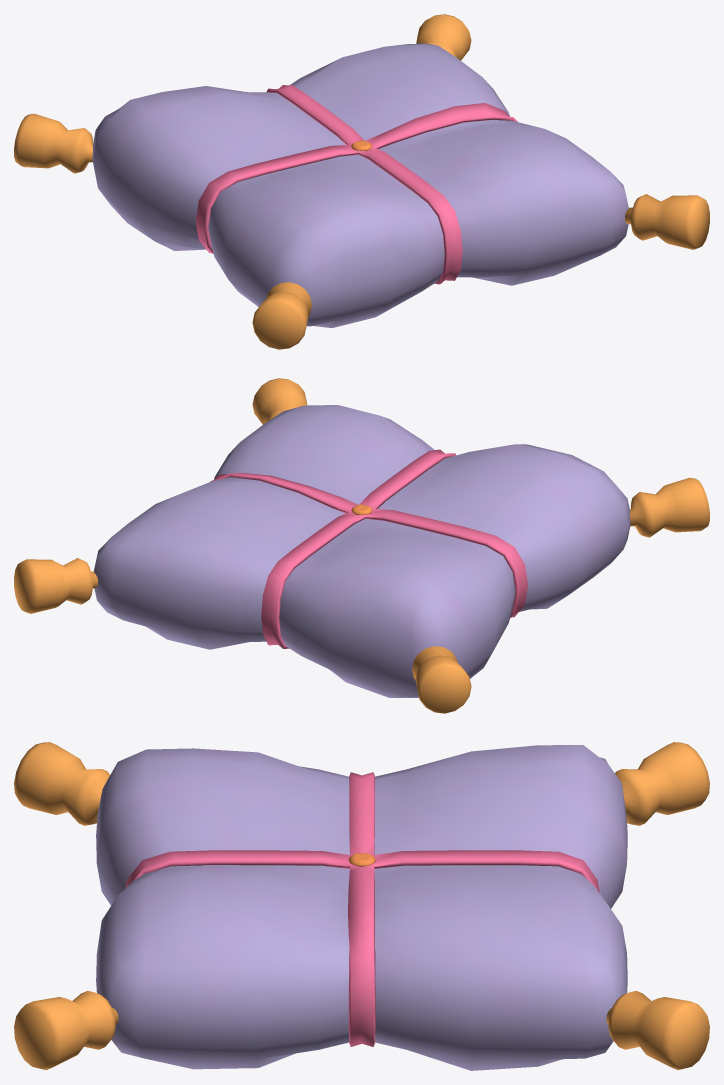
Rendered from Pillow_2.fbx.
The picture shows the model from 3 angles, top to bottom: view 1: azimuth 30°, elevation 25°; view 2: azimuth 150°, elevation 25°; view 3: azimuth 270°, elevation 25°; orthographic projection. The views are drawn at different scales.
Parts seen in each view (by area): view 1: Cube.017; view 2: Cube.017; view 3: Cube.017.
Boxes of the visible parts, bbox=[...] form: Cube.017: bbox=[14, 14, 709, 349]; Cube.017: bbox=[14, 378, 709, 713]; Cube.017: bbox=[14, 742, 709, 1070].
Bounding box in the file's own units: 66.65 × 18.01 × 68.64.
